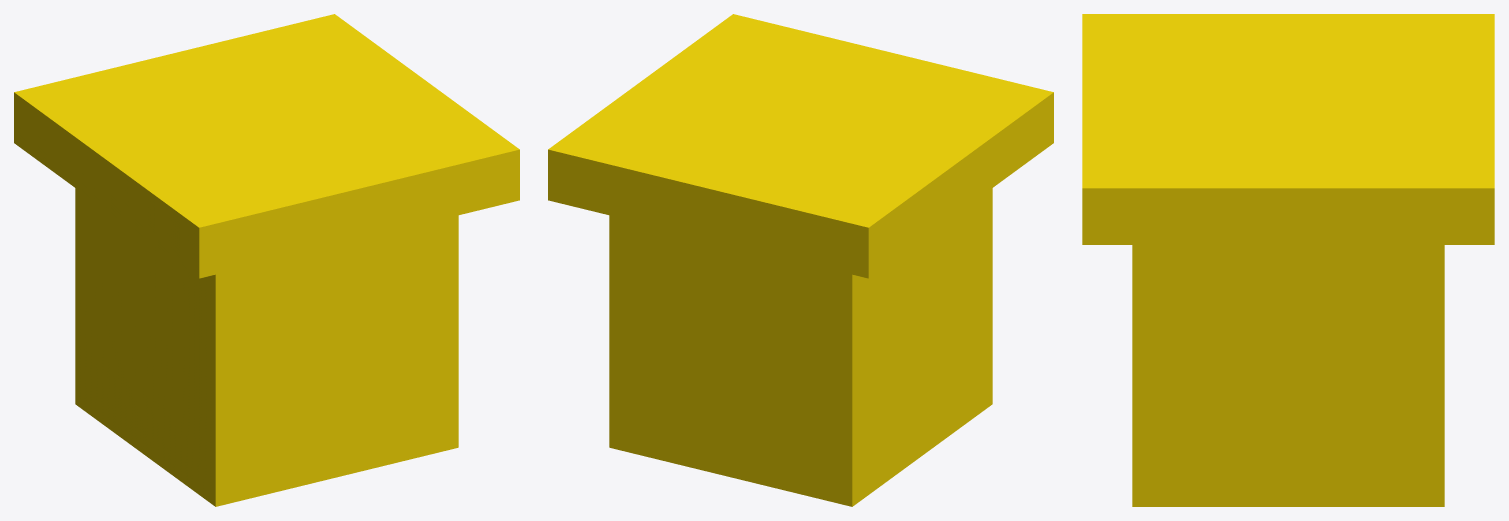
The model's file is asset.gltf.
3 renders of one model, left to right at view 1: azimuth 30°, elevation 25°; view 2: azimuth 150°, elevation 25°; view 3: azimuth 270°, elevation 25°, orthographic. The views are drawn at different scales.
Parts seen in each view (by area): view 1: 柱状体 (×2); view 2: 柱状体 (×2); view 3: 柱状体 (×2).
Part boxes in pixels (bbox=[...]): 柱状体 (×2): bbox=[14, 14, 519, 506]; 柱状体 (×2): bbox=[548, 14, 1053, 506]; 柱状体 (×2): bbox=[1082, 14, 1494, 506].
Size of the model in its own units: 0.066 by 0.06 by 0.066.
